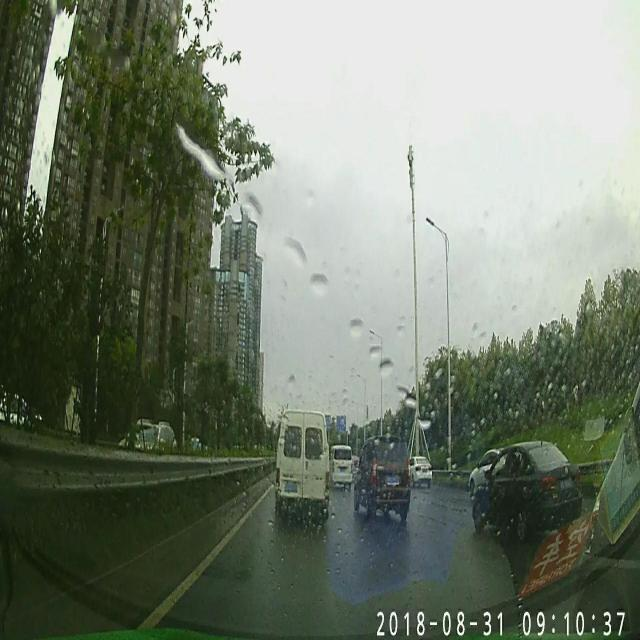car: (470, 439, 582, 538), (274, 403, 329, 525), (356, 433, 410, 522), (331, 441, 352, 488), (409, 451, 431, 486)
